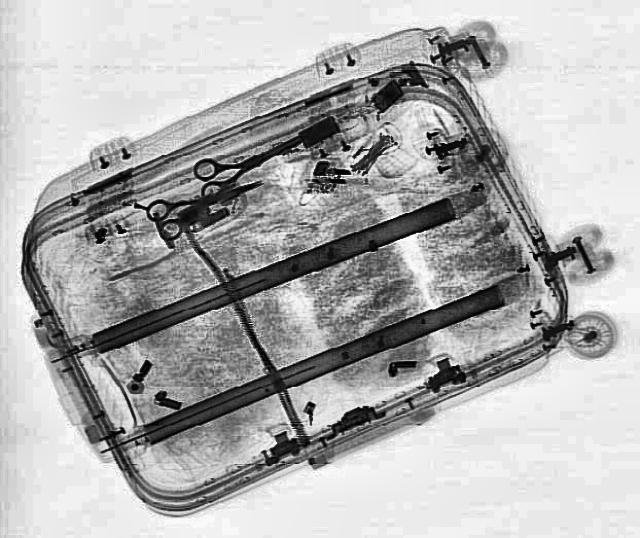Scissors: (178, 119, 312, 203), (137, 164, 271, 242)
